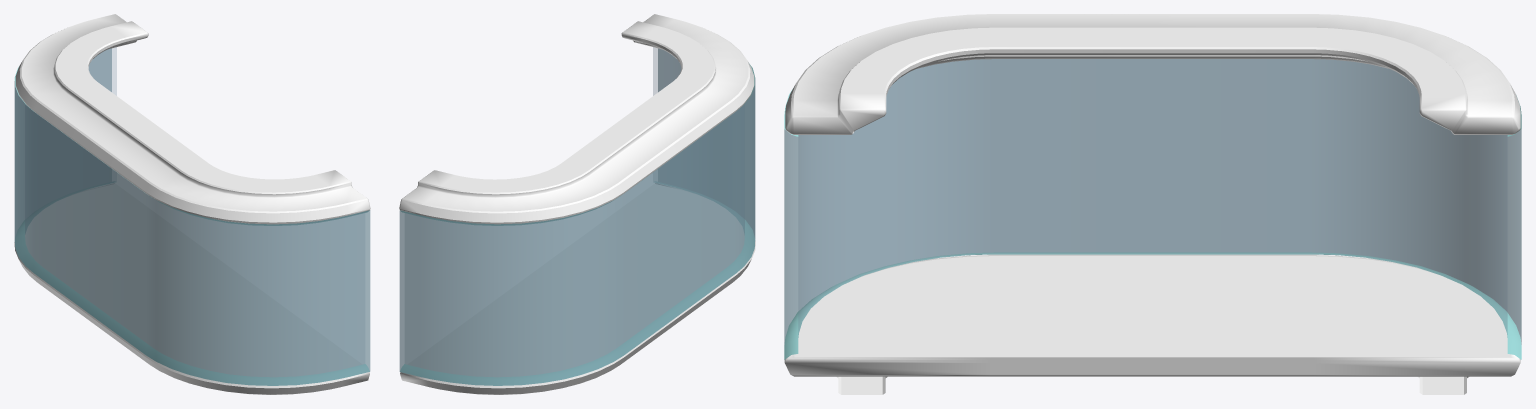
File: Chatterbox-Half-Short.fbx
3 renders of one model, left to right at view 1: azimuth 30°, elevation 25°; view 2: azimuth 150°, elevation 25°; view 3: azimuth 270°, elevation 25°, orthographic. The views are drawn at different scales.
Parts seen in each view (by area): view 1: Base; view 2: Base; view 3: Base.
Part boxes in pixels (<box>): Base: <box>14,14,370,394</box>; Base: <box>399,14,755,394</box>; Base: <box>784,14,1521,394</box>.
Bounding box in the file's own units: 237 × 297 × 693.
